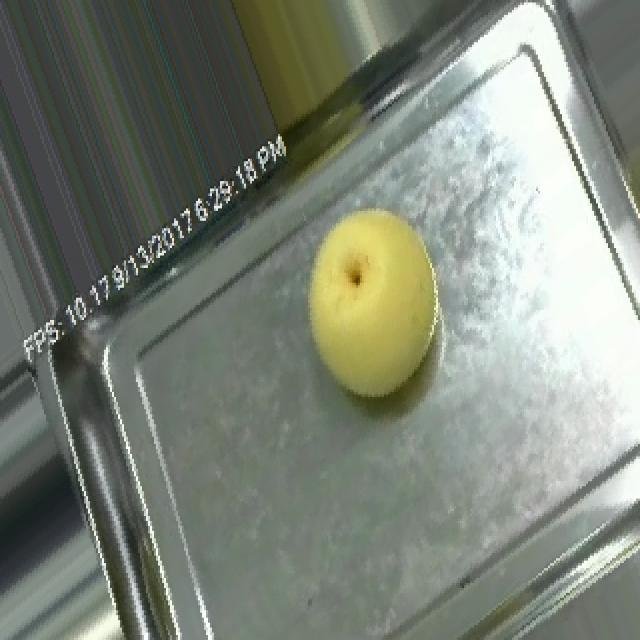Fruit: (268, 176, 464, 422)
